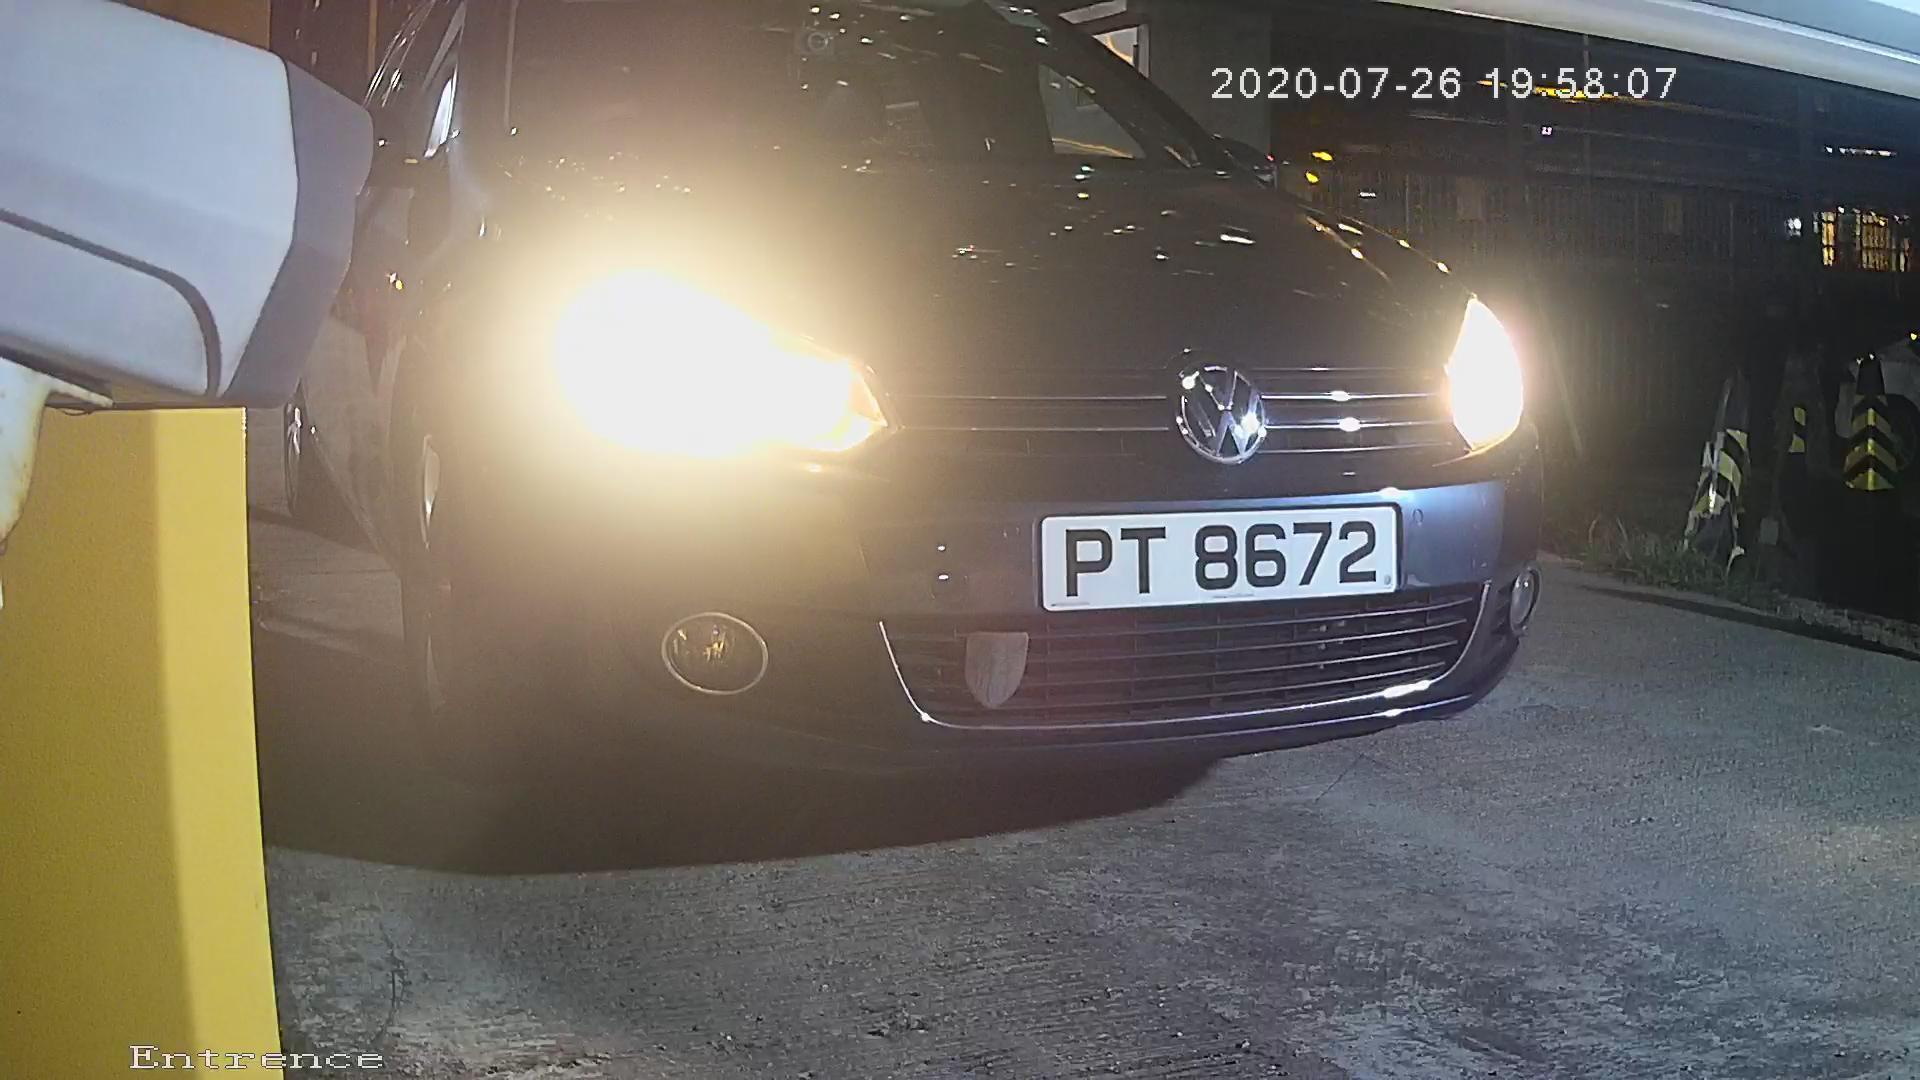License Plate: (1003, 492, 1423, 613)
